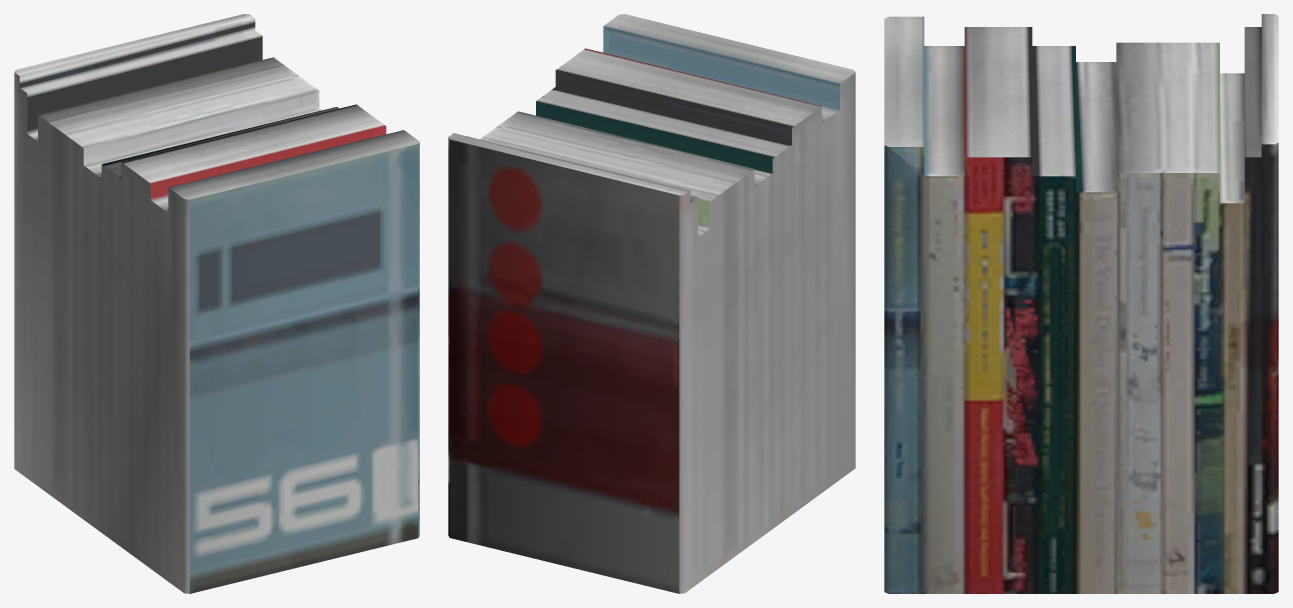
Rendered from Books02.FBX.
3 renders of one model, left to right at view 1: azimuth 30°, elevation 25°; view 2: azimuth 150°, elevation 25°; view 3: azimuth 270°, elevation 25°, orthographic. The views are drawn at different scales.
Visible parts, largest first — view 1: Books02; view 2: Books02; view 3: Books02.
Boxes of the visible parts, left/top/right/bottom form: Books02: left=14, top=14, right=419, bottom=593; Books02: left=448, top=14, right=855, bottom=593; Books02: left=884, top=14, right=1278, bottom=593.
Bounding box in the file's own units: 0.201 × 0.3236 × 0.2573.
